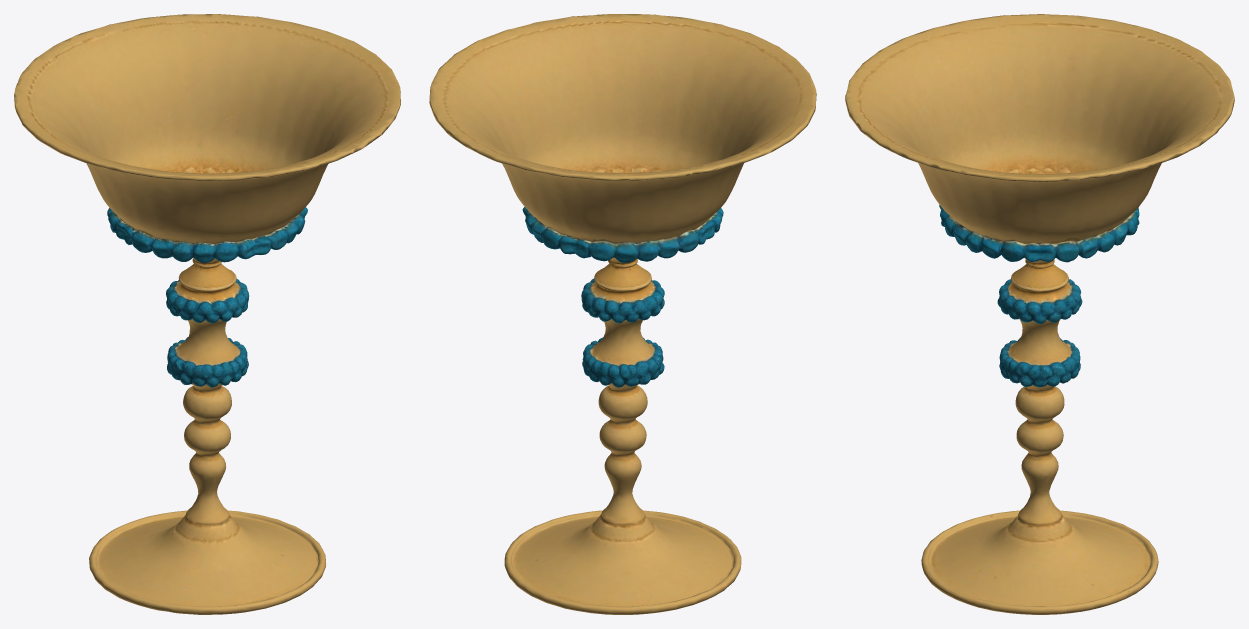
File: tripo_convert_c06b25cb-1496-452c-852c-445007c42a29.fbx
3 renders of one model, left to right at view 1: azimuth 30°, elevation 25°; view 2: azimuth 150°, elevation 25°; view 3: azimuth 270°, elevation 25°, orthographic.
Parts seen in each view (by area): view 1: tripo_node_c06b25cb; view 2: tripo_node_c06b25cb; view 3: tripo_node_c06b25cb.
Boxes of the visible parts, x1,y1,x2,y2 form: tripo_node_c06b25cb: (14, 14, 400, 614); tripo_node_c06b25cb: (429, 14, 816, 614); tripo_node_c06b25cb: (845, 14, 1234, 614).
Size of the model in its own units: 0.7502 by 1 by 0.7504.
1 material, 1 textured.
